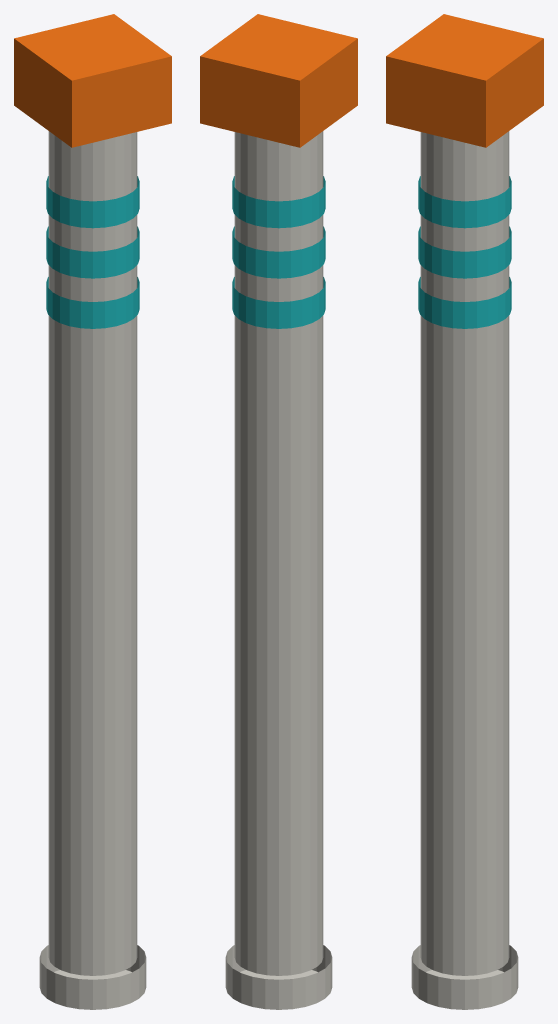
The model's file is SM_PeriColumn.fbx.
3 views of the same model, side by side, from view 1: azimuth 30°, elevation 25°; view 2: azimuth 150°, elevation 25°; view 3: azimuth 330°, elevation 25° (orthographic).
Parts seen in each view (by area): view 1: SM_PeriColumn; view 2: SM_PeriColumn; view 3: SM_PeriColumn.
Part boxes in pixels (x1,y1,x2,y2): SM_PeriColumn: (14, 14, 171, 1009); SM_PeriColumn: (200, 14, 357, 1009); SM_PeriColumn: (386, 14, 543, 1009).
Bounding box in the file's own units: 156 × 156 × 1400.
